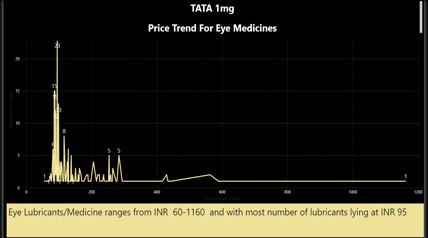

The page's visual inventory and layout, read from the dashboard file:
{"tool":"powerbi","page":{"name":"PriceRange  vs KBA","canvas":[1280,720],"ordinal":1},"visuals":[{"type":"lineChart","fields":{"Category":["1Mg_homeopathic.Discounted Price"],"Y":["CountNonNull(1Mg_homeopathic.for eye)"]},"box":[9.5,62,1269.9,513.4],"z":0},{"type":"textbox","box":[9.5,575.4,1269.9,95.4],"z":1000},{"type":"textbox","box":[0,0,1279.4,117.2],"z":2000}]}

Visuals, with their boxes in screenshot pixels (x1, y1, x2, y2), scaled from the page's 1280x720 canvas onto the 428x238 screenshot:
lineChart - 1Mg_homeopathic.Discounted Price x CountNonNull(1Mg_homeopathic.for eye): <region>3, 20, 427, 190</region>
textbox: <region>3, 190, 427, 222</region>
textbox: <region>0, 0, 427, 39</region>
